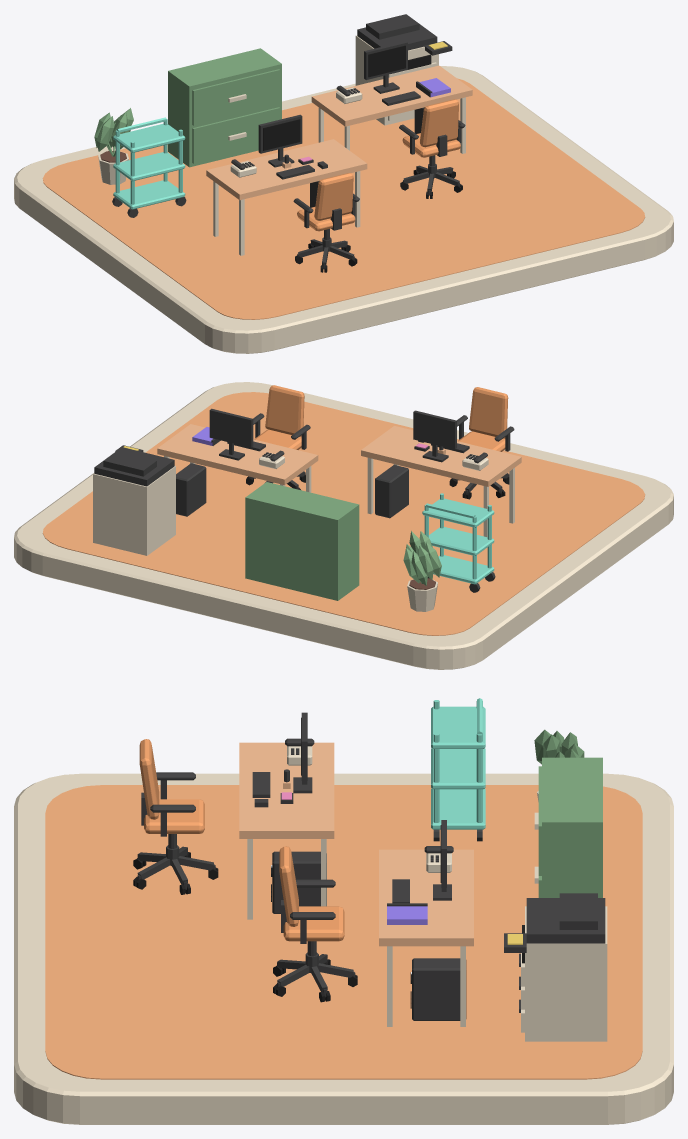
The model's file is room.fbx.
The picture shows the model from 3 angles, top to bottom: view 1: azimuth 30°, elevation 25°; view 2: azimuth 150°, elevation 25°; view 3: azimuth 270°, elevation 25°; orthographic projection. The views are drawn at different scales.
Visible parts, largest first — view 1: COM-02 Floor Surface, COM-01 Rounded Base Direct, Cabinet, Top, Top.001, Body, COM-04_Chair_blender_direct, COM-04_Chair_blender_direct.001, Pot, Frame.001, Frame, Tray.002 (+2 smaller); view 2: COM-02 Floor Surface, COM-01 Rounded Base Direct, Cabinet, Body, Top, Top.001, COM-04_Chair_blender_direct, COM-04_Chair_blender_direct.001, Pot, Frame.001, Frame, Tower (+4 smaller); view 3: COM-02 Floor Surface, COM-01 Rounded Base Direct, Body, Cabinet, Top, Top.001, COM-04_Chair_blender_direct.001, COM-04_Chair_blender_direct, Tower.001, Tray.002, Tray.001, Tray (+5 smaller).
Part boxes in pixels (<box>): COM-02 Floor Surface: <box>42,78,645,319</box>; COM-01 Rounded Base Direct: <box>14,66,673,353</box>; Cabinet: <box>168,48,281,167</box>; Top: <box>206,139,367,255</box>; Top.001: <box>311,65,472,153</box>; Body: <box>355,14,452,125</box>; COM-04_Chair_blender_direct: <box>293,173,359,272</box>; COM-04_Chair_blender_direct.001: <box>399,99,465,198</box>; Pot: <box>94,108,133,184</box>; Frame.001: <box>364,41,407,93</box>; Frame: <box>258,114,302,167</box>; Tray.002: <box>113,123,185,152</box>; COM-02 Floor Surface: <box>42,392,645,635</box>; COM-01 Rounded Base Direct: <box>14,382,673,669</box>; Cabinet: <box>245,482,359,600</box>; Body: <box>93,445,175,555</box>; Top: <box>361,426,521,537</box>; Top.001: <box>157,424,318,492</box>; COM-04_Chair_blender_direct: <box>449,387,514,499</box>; COM-04_Chair_blender_direct.001: <box>246,385,310,489</box>; Pot: <box>403,531,441,611</box>; Frame.001: <box>209,408,253,460</box>; Frame: <box>413,410,456,462</box>; Tower: <box>375,465,408,518</box>; COM-02 Floor Surface: <box>45,785,642,1079</box>; COM-01 Rounded Base Direct: <box>14,773,673,1124</box>; Body: <box>504,893,607,1041</box>; Cabinet: <box>534,757,602,897</box>; Top: <box>239,742,334,919</box>; Top.001: <box>379,849,473,1026</box>; COM-04_Chair_blender_direct.001: <box>273,846,357,1002</box>; COM-04_Chair_blender_direct: <box>133,739,218,894</box>; Tower.001: <box>412,958,466,1020</box>; Tray.002: <box>431,706,485,748</box>; Tray.001: <box>431,748,485,789</box>; Tray: <box>431,788,485,829</box>.
Bounding box in the file's own units: 600 × 161 × 520.
